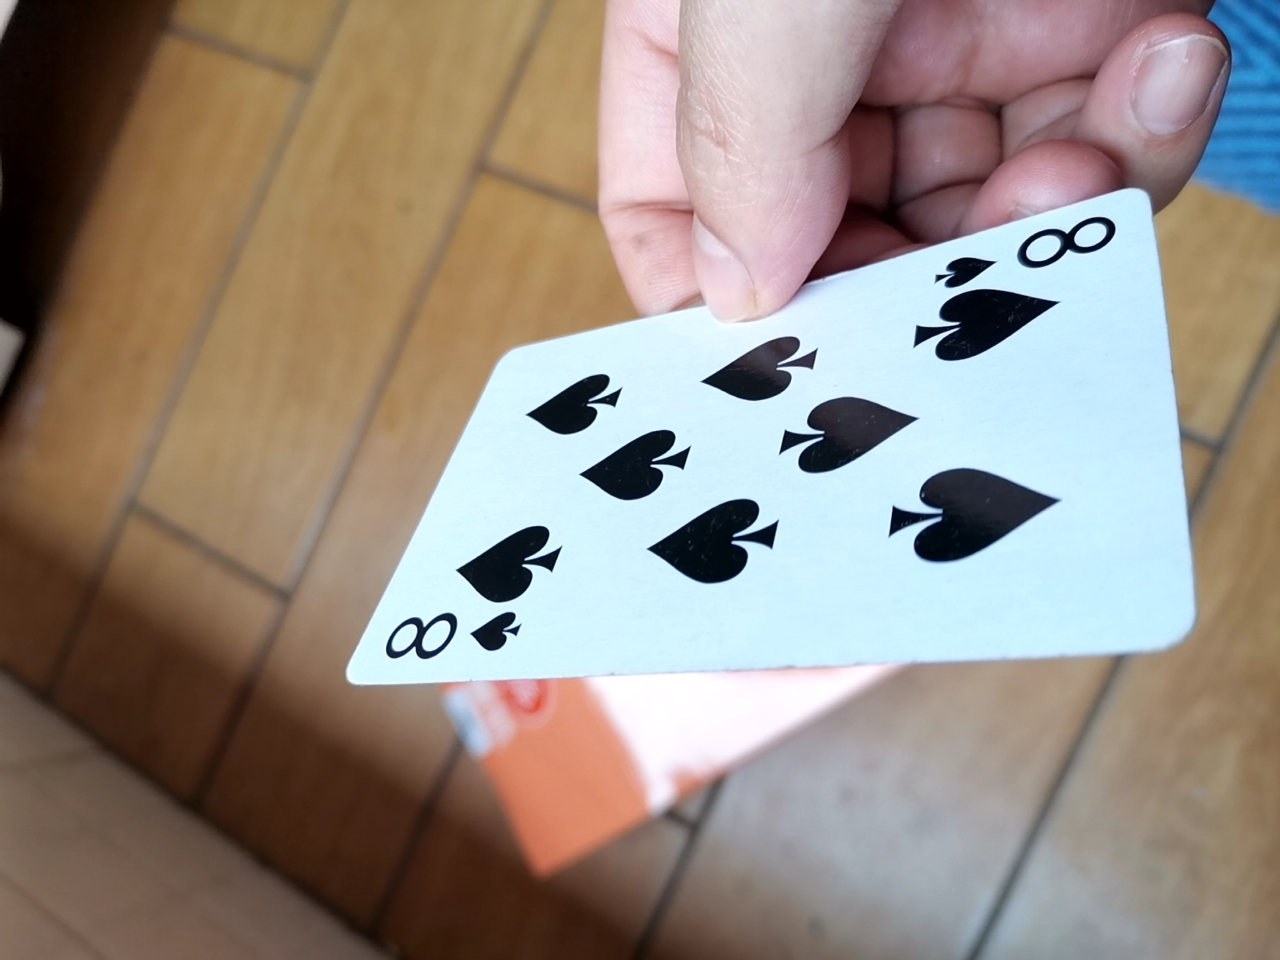ht 8: (346, 189, 1189, 769)
